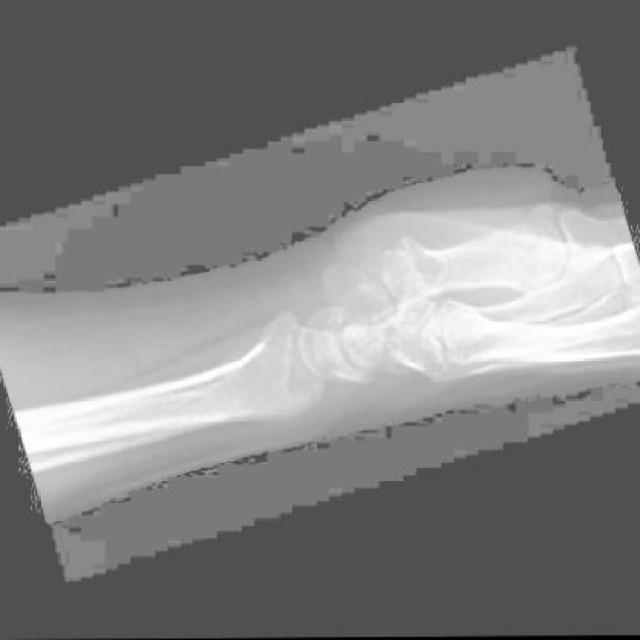Fracture: (373, 350, 422, 392)
